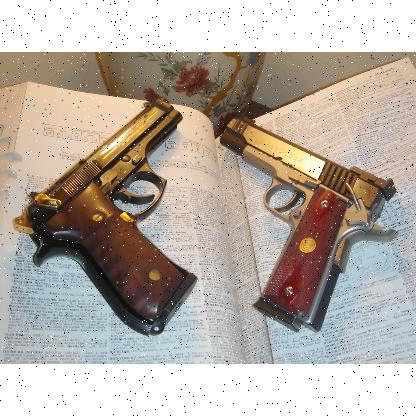gun: (13, 97, 198, 336), (220, 116, 398, 332)
